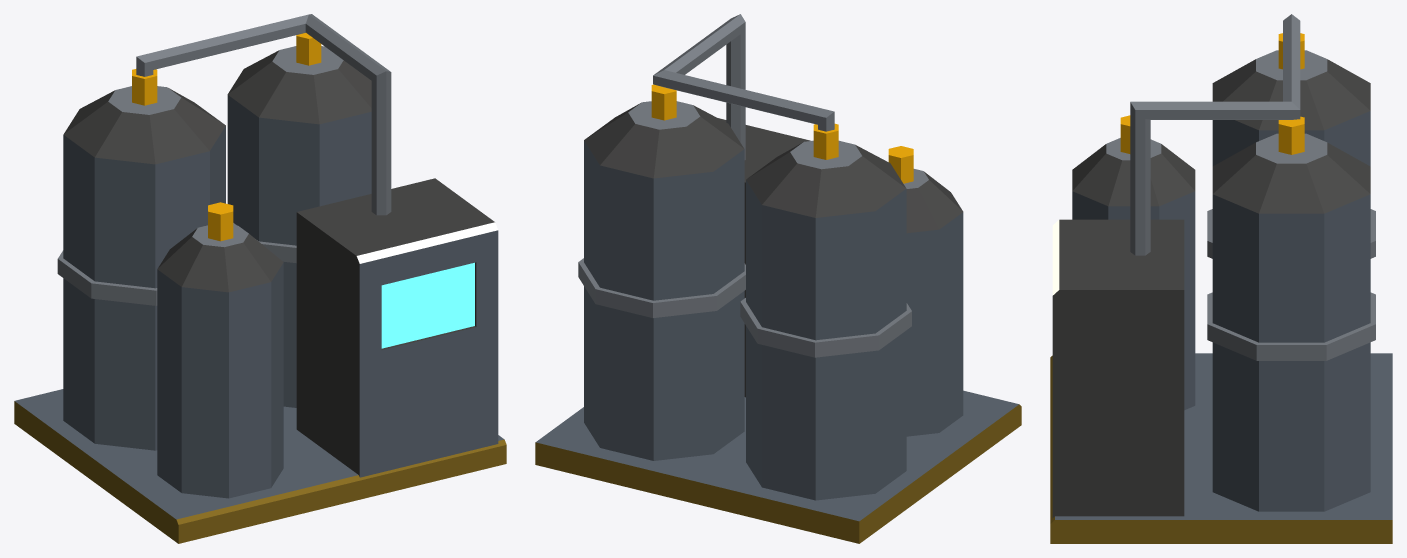
The model's file is ls_tanks.glb.
The picture shows the model from 3 angles, left to right: view 1: azimuth 30°, elevation 25°; view 2: azimuth 150°, elevation 25°; view 3: azimuth 270°, elevation 25°; orthographic projection. The views are drawn at different scales.
Parts seen in each view (by area): view 1: ls_tanks; view 2: ls_tanks; view 3: ls_tanks.
Boxes of the visible parts, <box> form: ls_tanks: <box>14,14,506,543</box>; ls_tanks: <box>535,14,1021,543</box>; ls_tanks: <box>1050,14,1392,543</box>.
Size of the model in its own units: 1.8 by 2.02 by 1.56.
